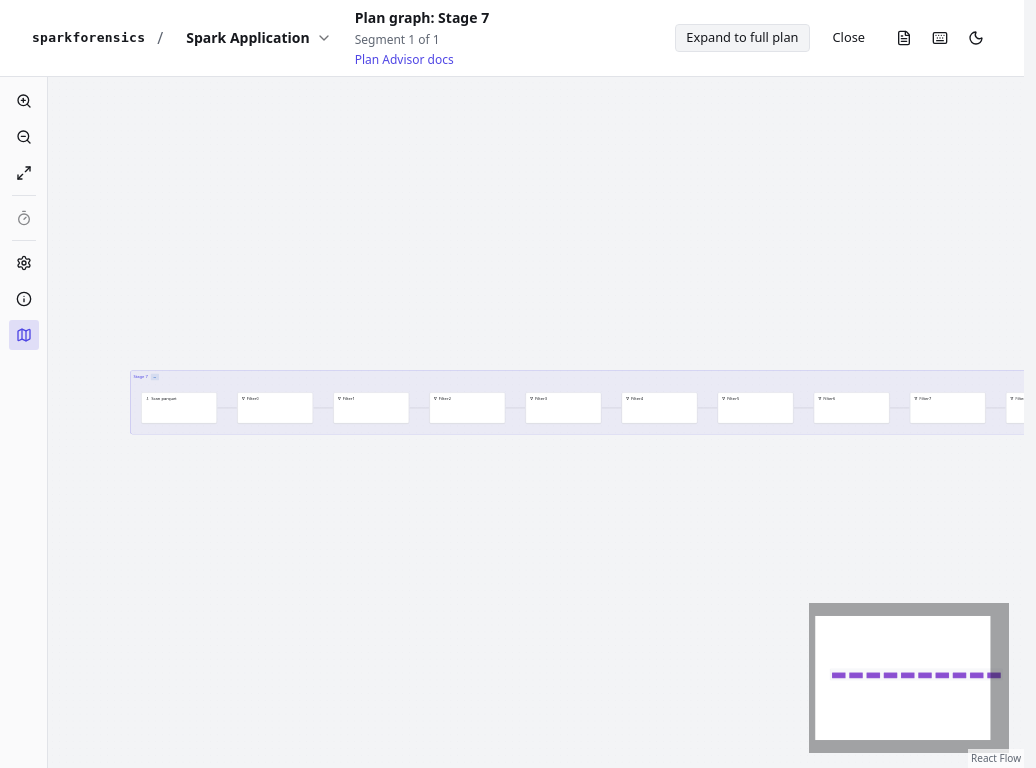
Test case: clicking "Back to segment view" after an explicit expand actually returns to segment view
Click the button "Expand to full plan" at x=742, y=38, box [675,24,810,52]
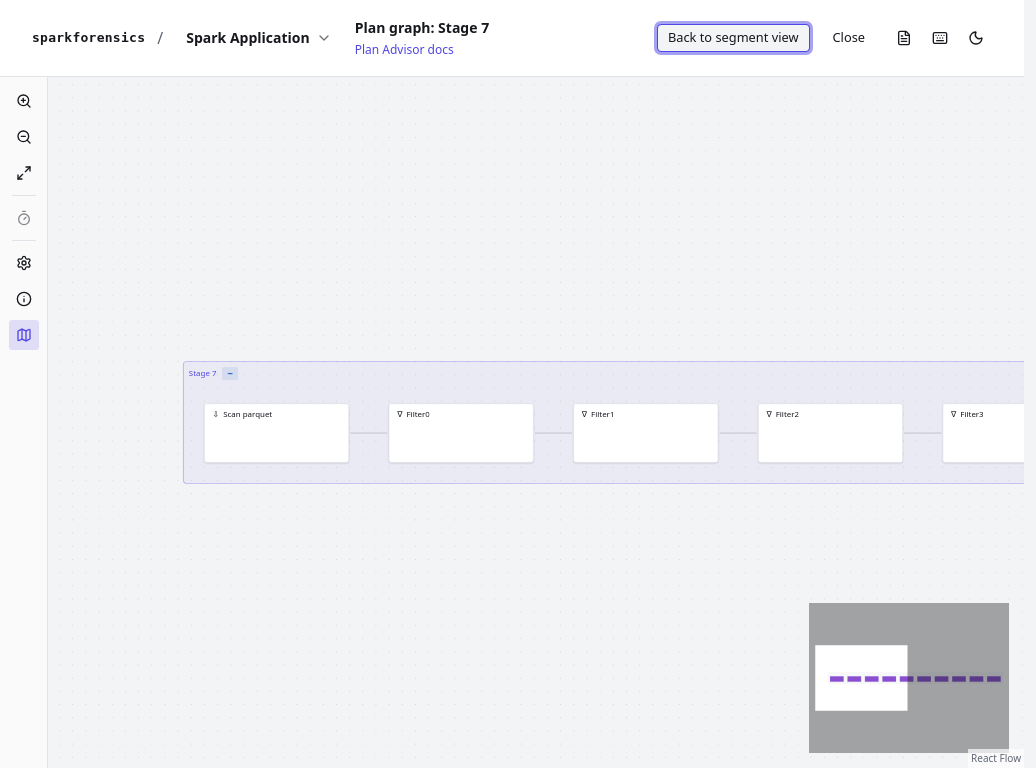
Click the button "Back to segment view" at x=733, y=38, box [657,24,810,52]
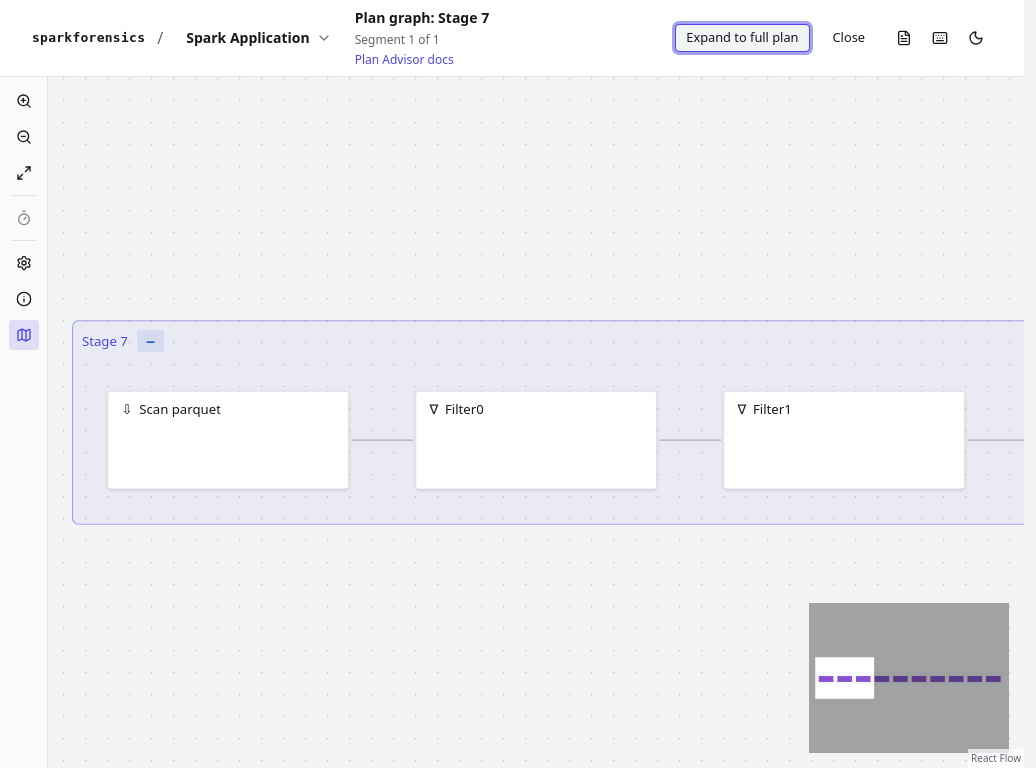
Now the button "Expand to full plan" is shown, box [675,24,810,52]
Now the button "Back to segment view" is gone
